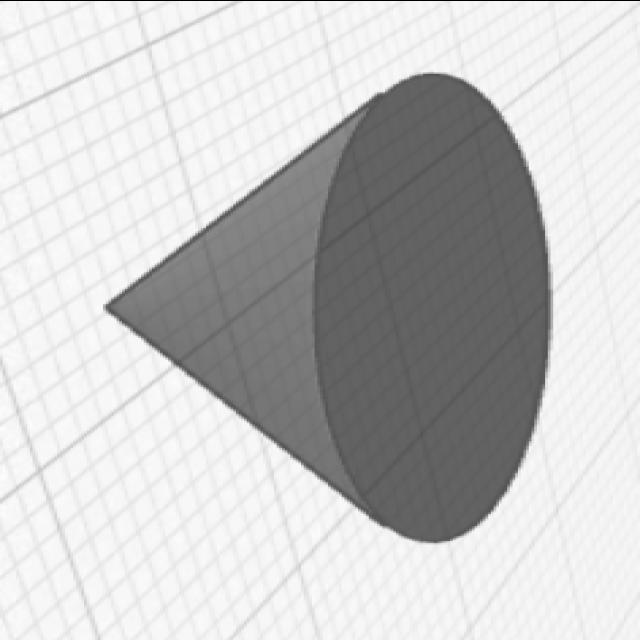cone: (100, 69, 560, 546)
